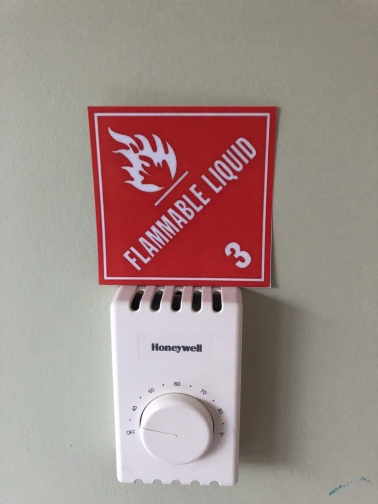FlammableLiquid: (93, 108, 272, 282)
